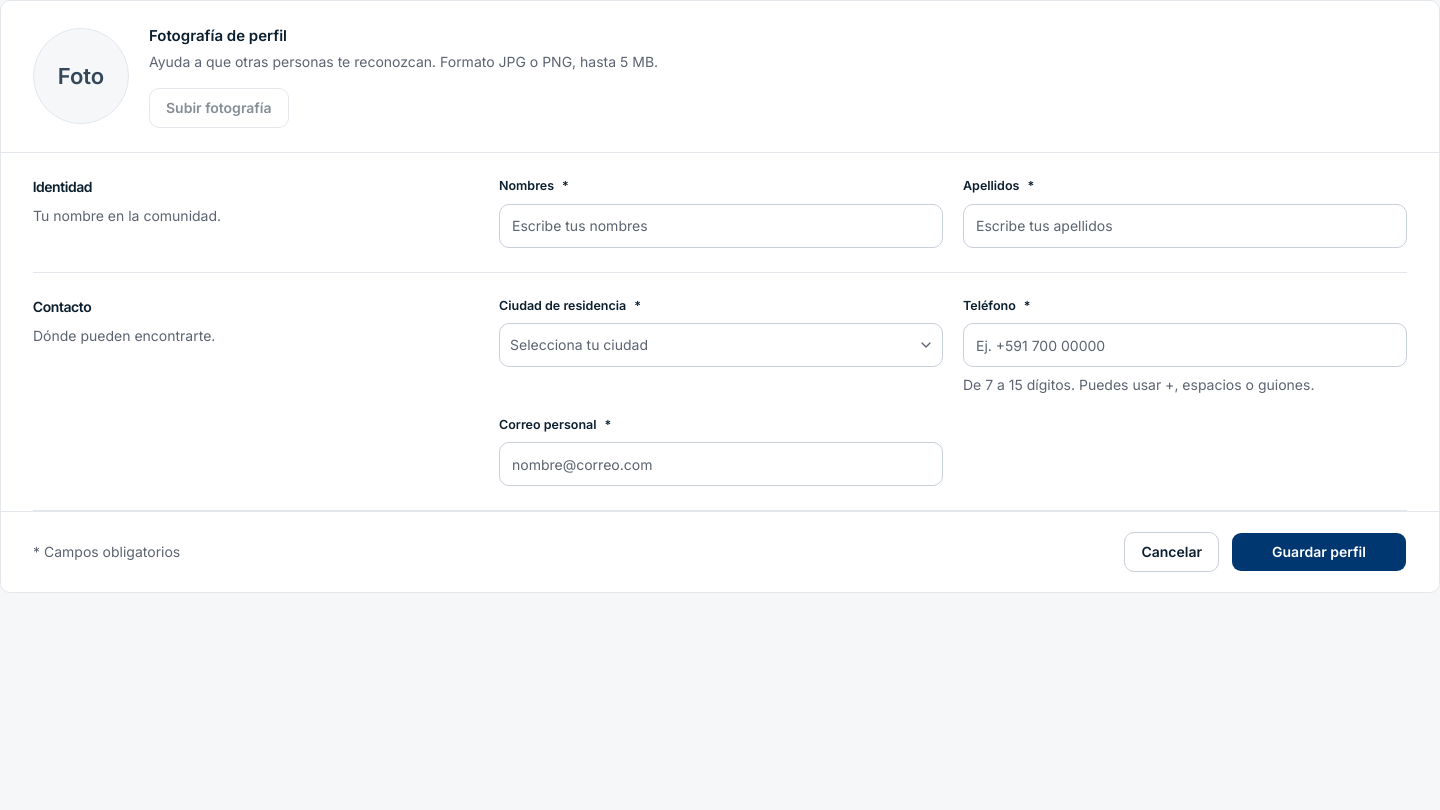
Scenario: PersonalInfoForm › limits a pasted phone to 15 digits
The image size is (1440, 810).
Click the field labelled "Teléfono *": (1185, 345) [963,323,1407,367]
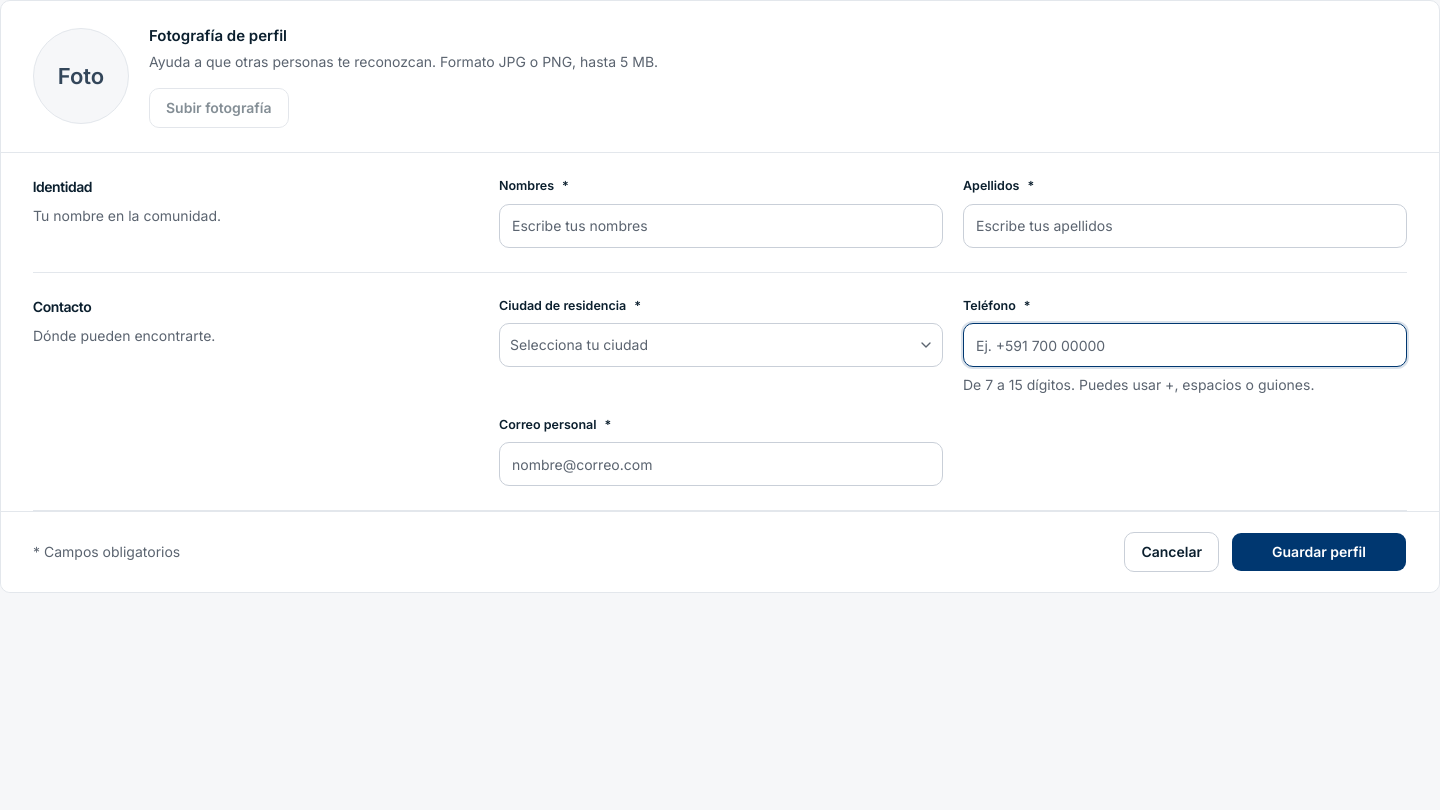
Type keys "+591 5616 5165 1651 5156"
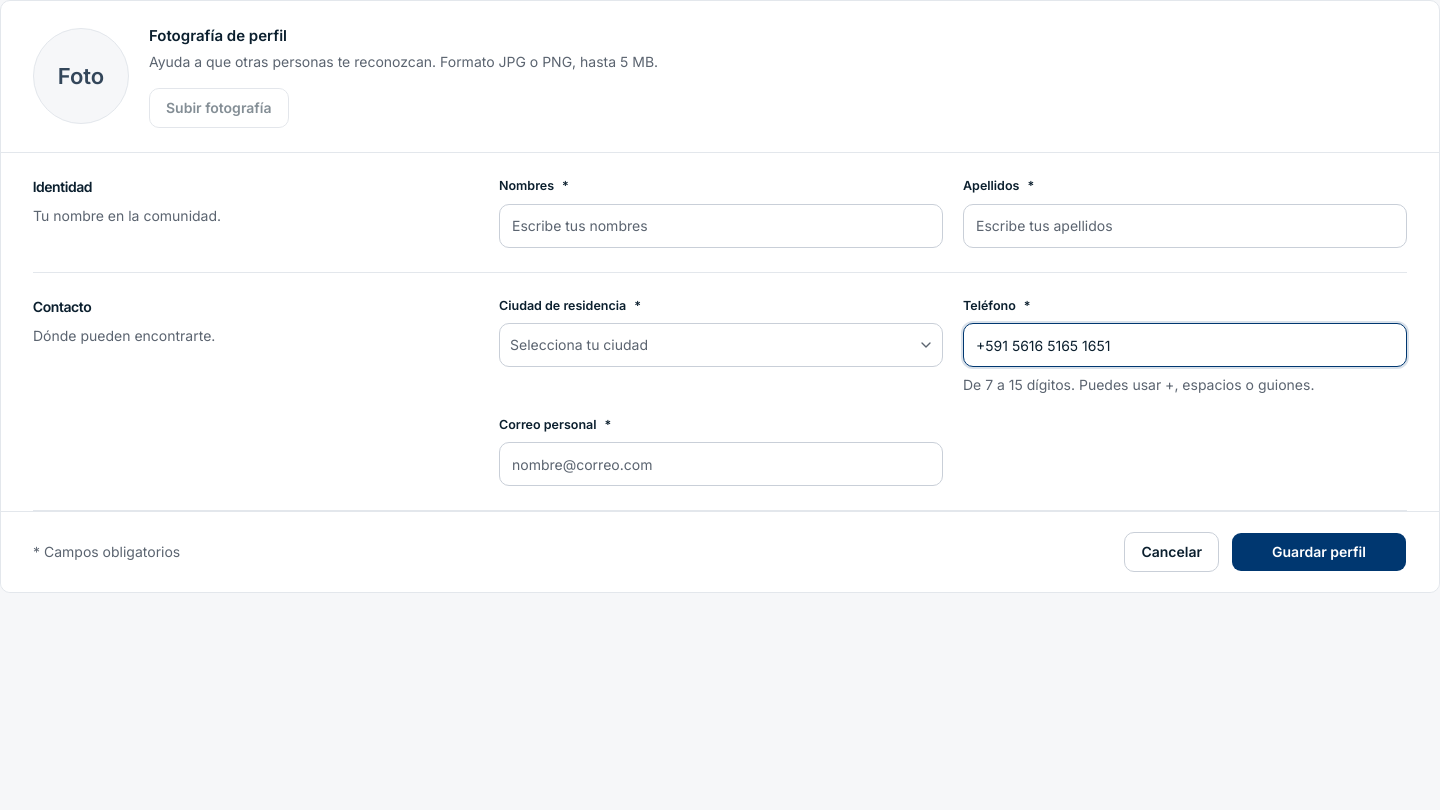
Check: the field labelled "Teléfono *" holds "+591 5616 5165 1651 ", box [963,323,1407,367]
